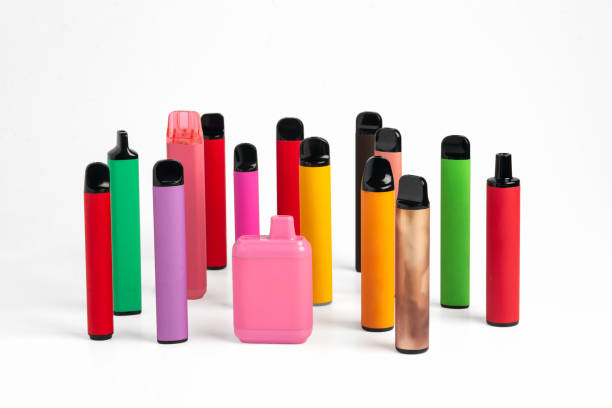cigarette: (232, 215, 314, 344), (164, 109, 208, 300), (151, 157, 189, 346), (105, 128, 143, 316), (393, 174, 432, 356), (485, 152, 522, 328), (360, 155, 396, 333), (298, 136, 333, 306), (82, 161, 114, 343), (441, 135, 470, 311), (353, 110, 384, 274), (200, 112, 228, 272), (274, 115, 305, 237), (232, 142, 261, 242), (374, 126, 403, 184)
